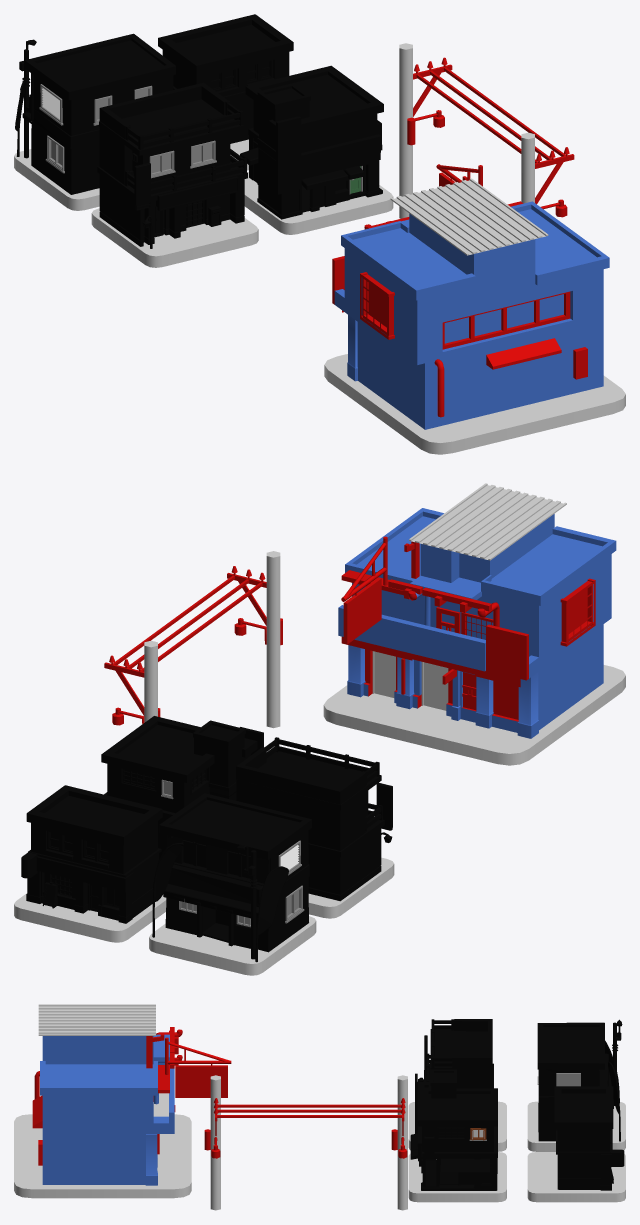
File: la_estrella_m.fbx
3 renders of one model, top to bottom at view 1: azimuth 30°, elevation 25°; view 2: azimuth 150°, elevation 25°; view 3: azimuth 270°, elevation 25°, orthographic. The views are drawn at different scales.
Visible parts, largest first — view 1: la_estrella_m; view 2: la_estrella_m; view 3: la_estrella_m.
Part boxes in pixels (left/top/right/bottom): la_estrella_m: left=14, top=14, right=625, bottom=454; la_estrella_m: left=14, top=483, right=625, bottom=975; la_estrella_m: left=14, top=1004, right=625, bottom=1210.
Size of the model in its own units: 1381 by 786 by 3114.
